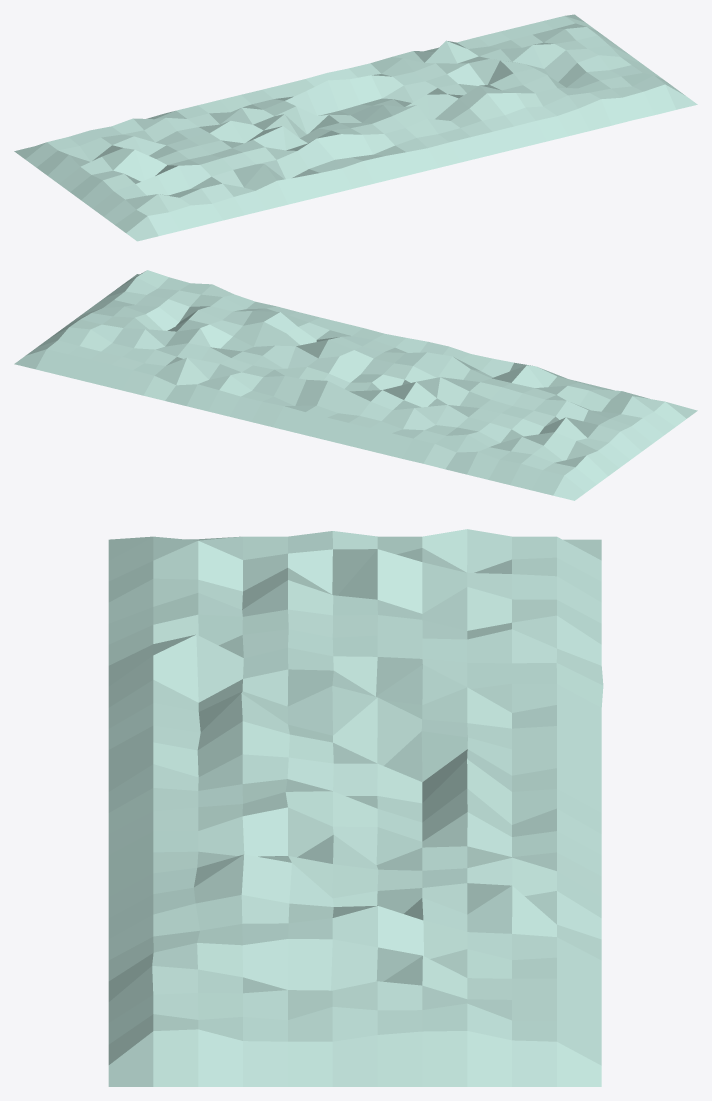
File: FreezerWall.fbx
3 views of the same model, one above another, from view 1: azimuth 30°, elevation 25°; view 2: azimuth 150°, elevation 25°; view 3: azimuth 270°, elevation 25° (orthographic). The views are drawn at different scales.
Parts seen in each view (by area): view 1: FreezerWall; view 2: FreezerWall; view 3: FreezerWall.
Part boxes in pixels (box(x1,y1,x2,y2)): FreezerWall: box(14, 14, 697, 241); FreezerWall: box(14, 270, 697, 500); FreezerWall: box(108, 529, 603, 1086).
Bounding box in the file's own units: 525 × 27.1 × 201.
